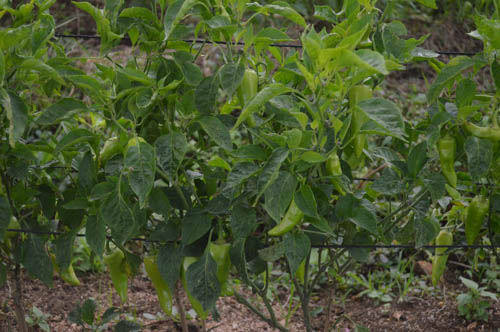ChiliPepper: (142, 254, 174, 313), (350, 84, 369, 153), (271, 203, 306, 237), (429, 232, 451, 283), (206, 244, 233, 285), (104, 251, 131, 292), (237, 68, 258, 120), (466, 194, 486, 244), (440, 137, 457, 180)
